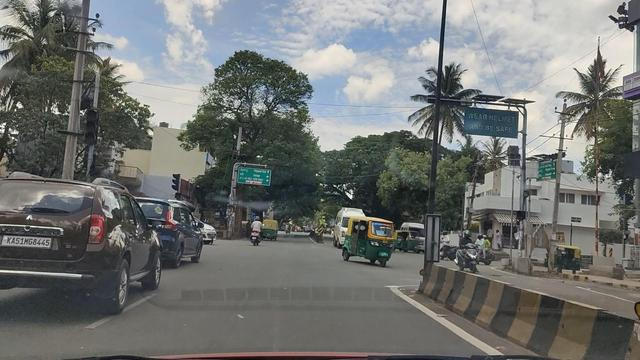LMV: (0, 169, 162, 313), (125, 183, 206, 267)
